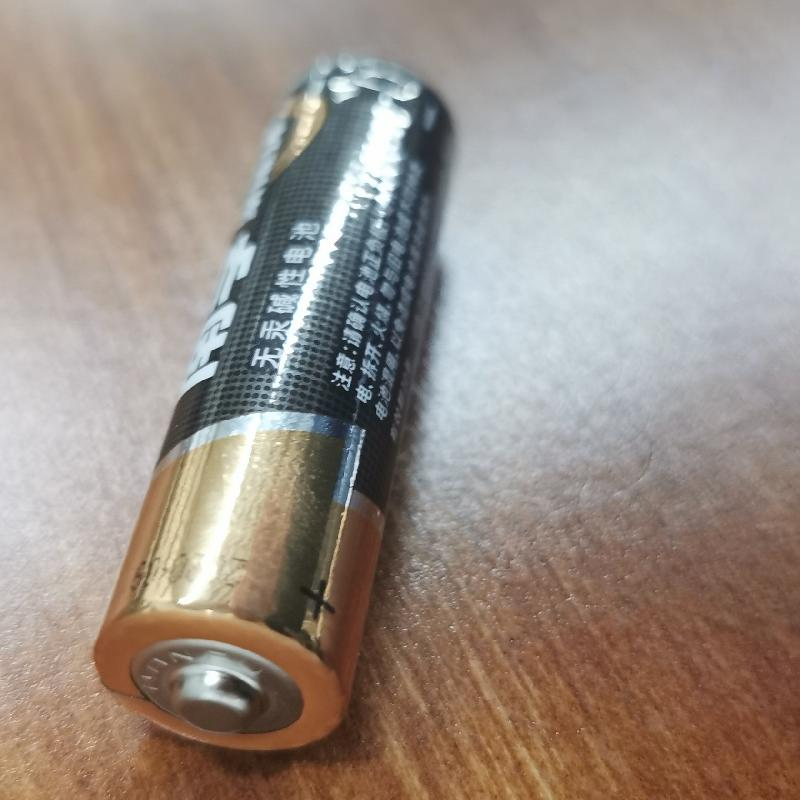battery: (83, 50, 458, 753)
